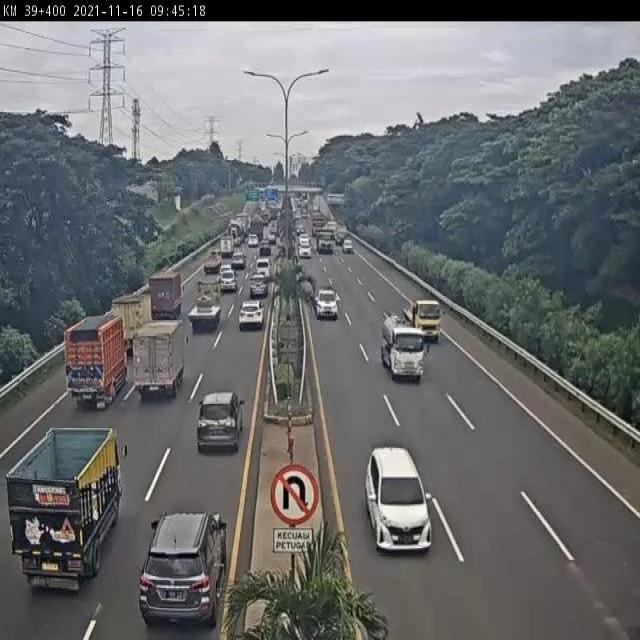Car: (138, 510, 228, 628), (364, 446, 432, 555), (197, 390, 246, 452), (312, 287, 340, 320), (238, 300, 265, 331), (219, 267, 237, 293), (250, 274, 268, 299), (256, 257, 270, 278), (231, 251, 246, 270), (258, 240, 272, 256), (298, 244, 312, 259), (343, 238, 353, 254), (248, 233, 258, 247)
Truck: (6, 429, 125, 593), (64, 314, 127, 409), (132, 321, 185, 400), (380, 313, 426, 382), (149, 272, 184, 323), (403, 298, 441, 343), (188, 283, 222, 329), (316, 230, 334, 258)
